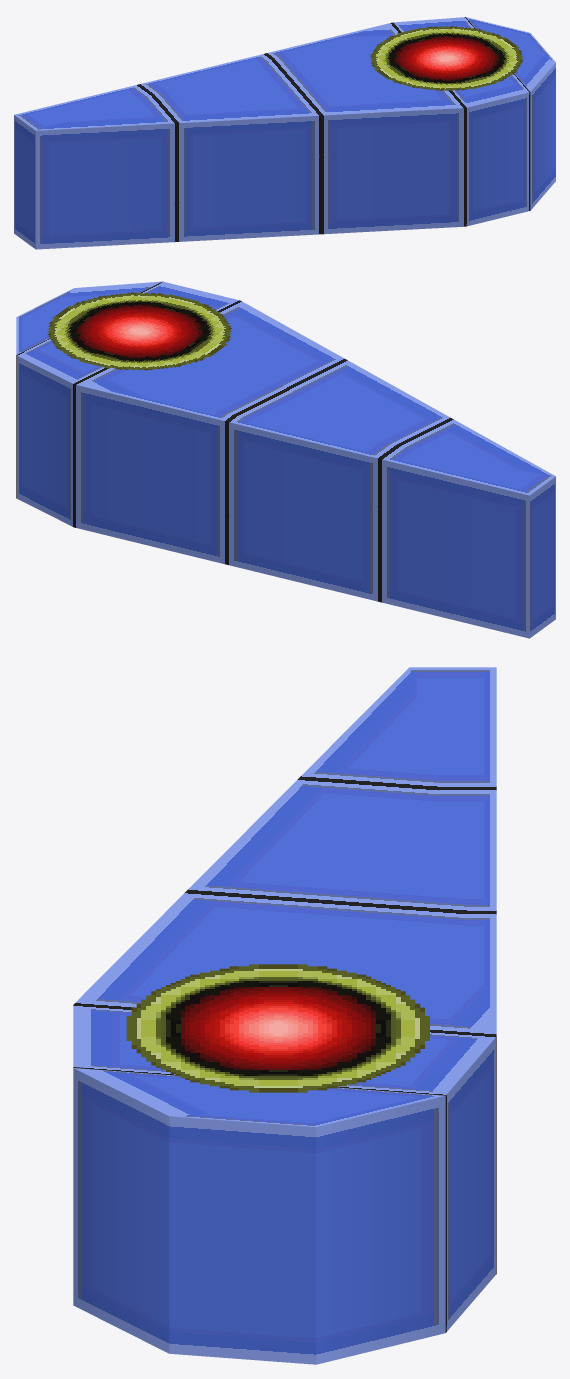
Rendered from luigi_course-flipper.glb.
3 views of the same model, one above another, from view 1: azimuth 30°, elevation 25°; view 2: azimuth 150°, elevation 25°; view 3: azimuth 270°, elevation 25° (orthographic). The views are drawn at different scales.
Visible parts, largest first — view 1: flipper; view 2: flipper; view 3: flipper.
Part boxes in pixels (x1=…): flipper: x1=14, y1=17, x2=555, y2=249; flipper: x1=16, y1=281, x2=555, y2=638; flipper: x1=73, y1=667, x2=496, y2=1364.
Size of the model in its own units: 15.58 by 3.88 by 6.06.
1 material, 1 textured.
